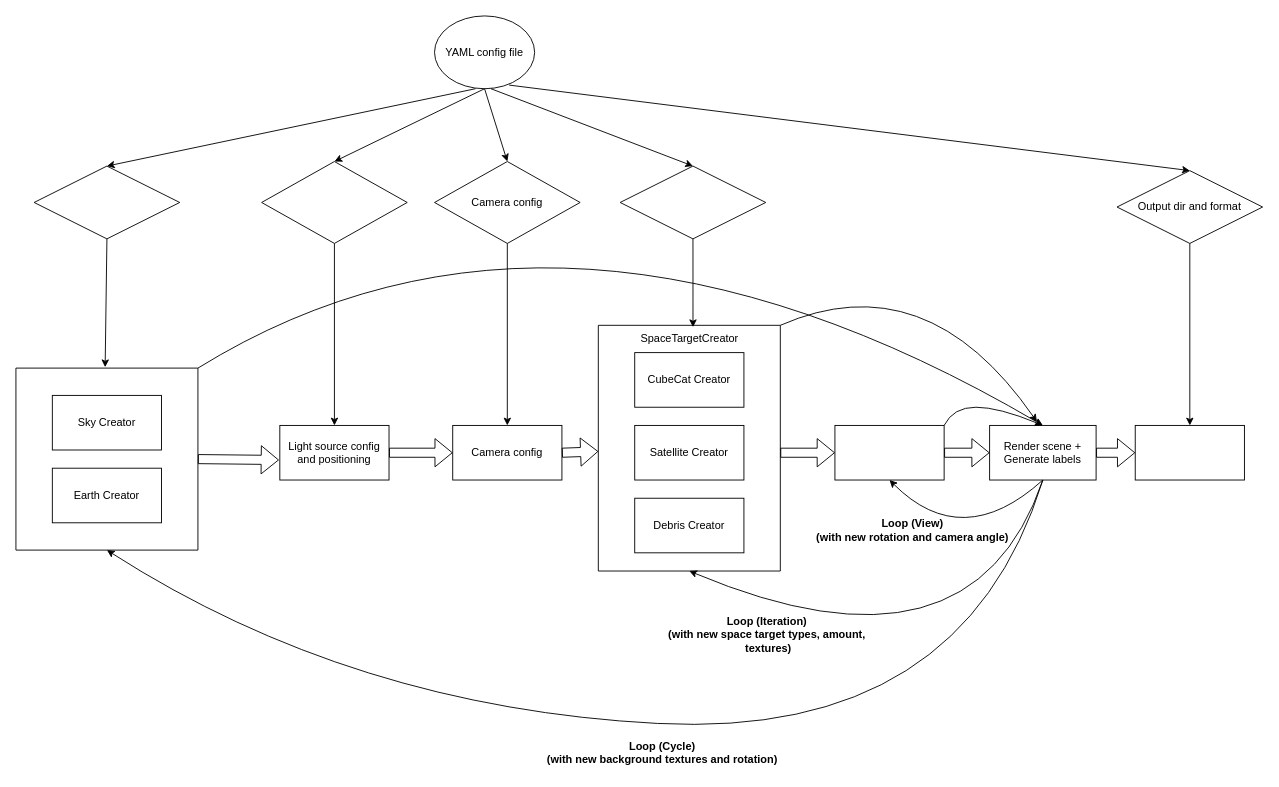
This 1279x787 diagram has some shape labels left out. The centre of each missing label's shape, as x and y in pixels:
Background type and sources: point (106, 202)
BackgroundGenerator: point (106, 458)
Dataset: point (1189, 452)
Lighting position and config: point (334, 202)
Space Target type and sources: point (692, 202)
SpaceTargets and camera positioning into scene: point (889, 452)
